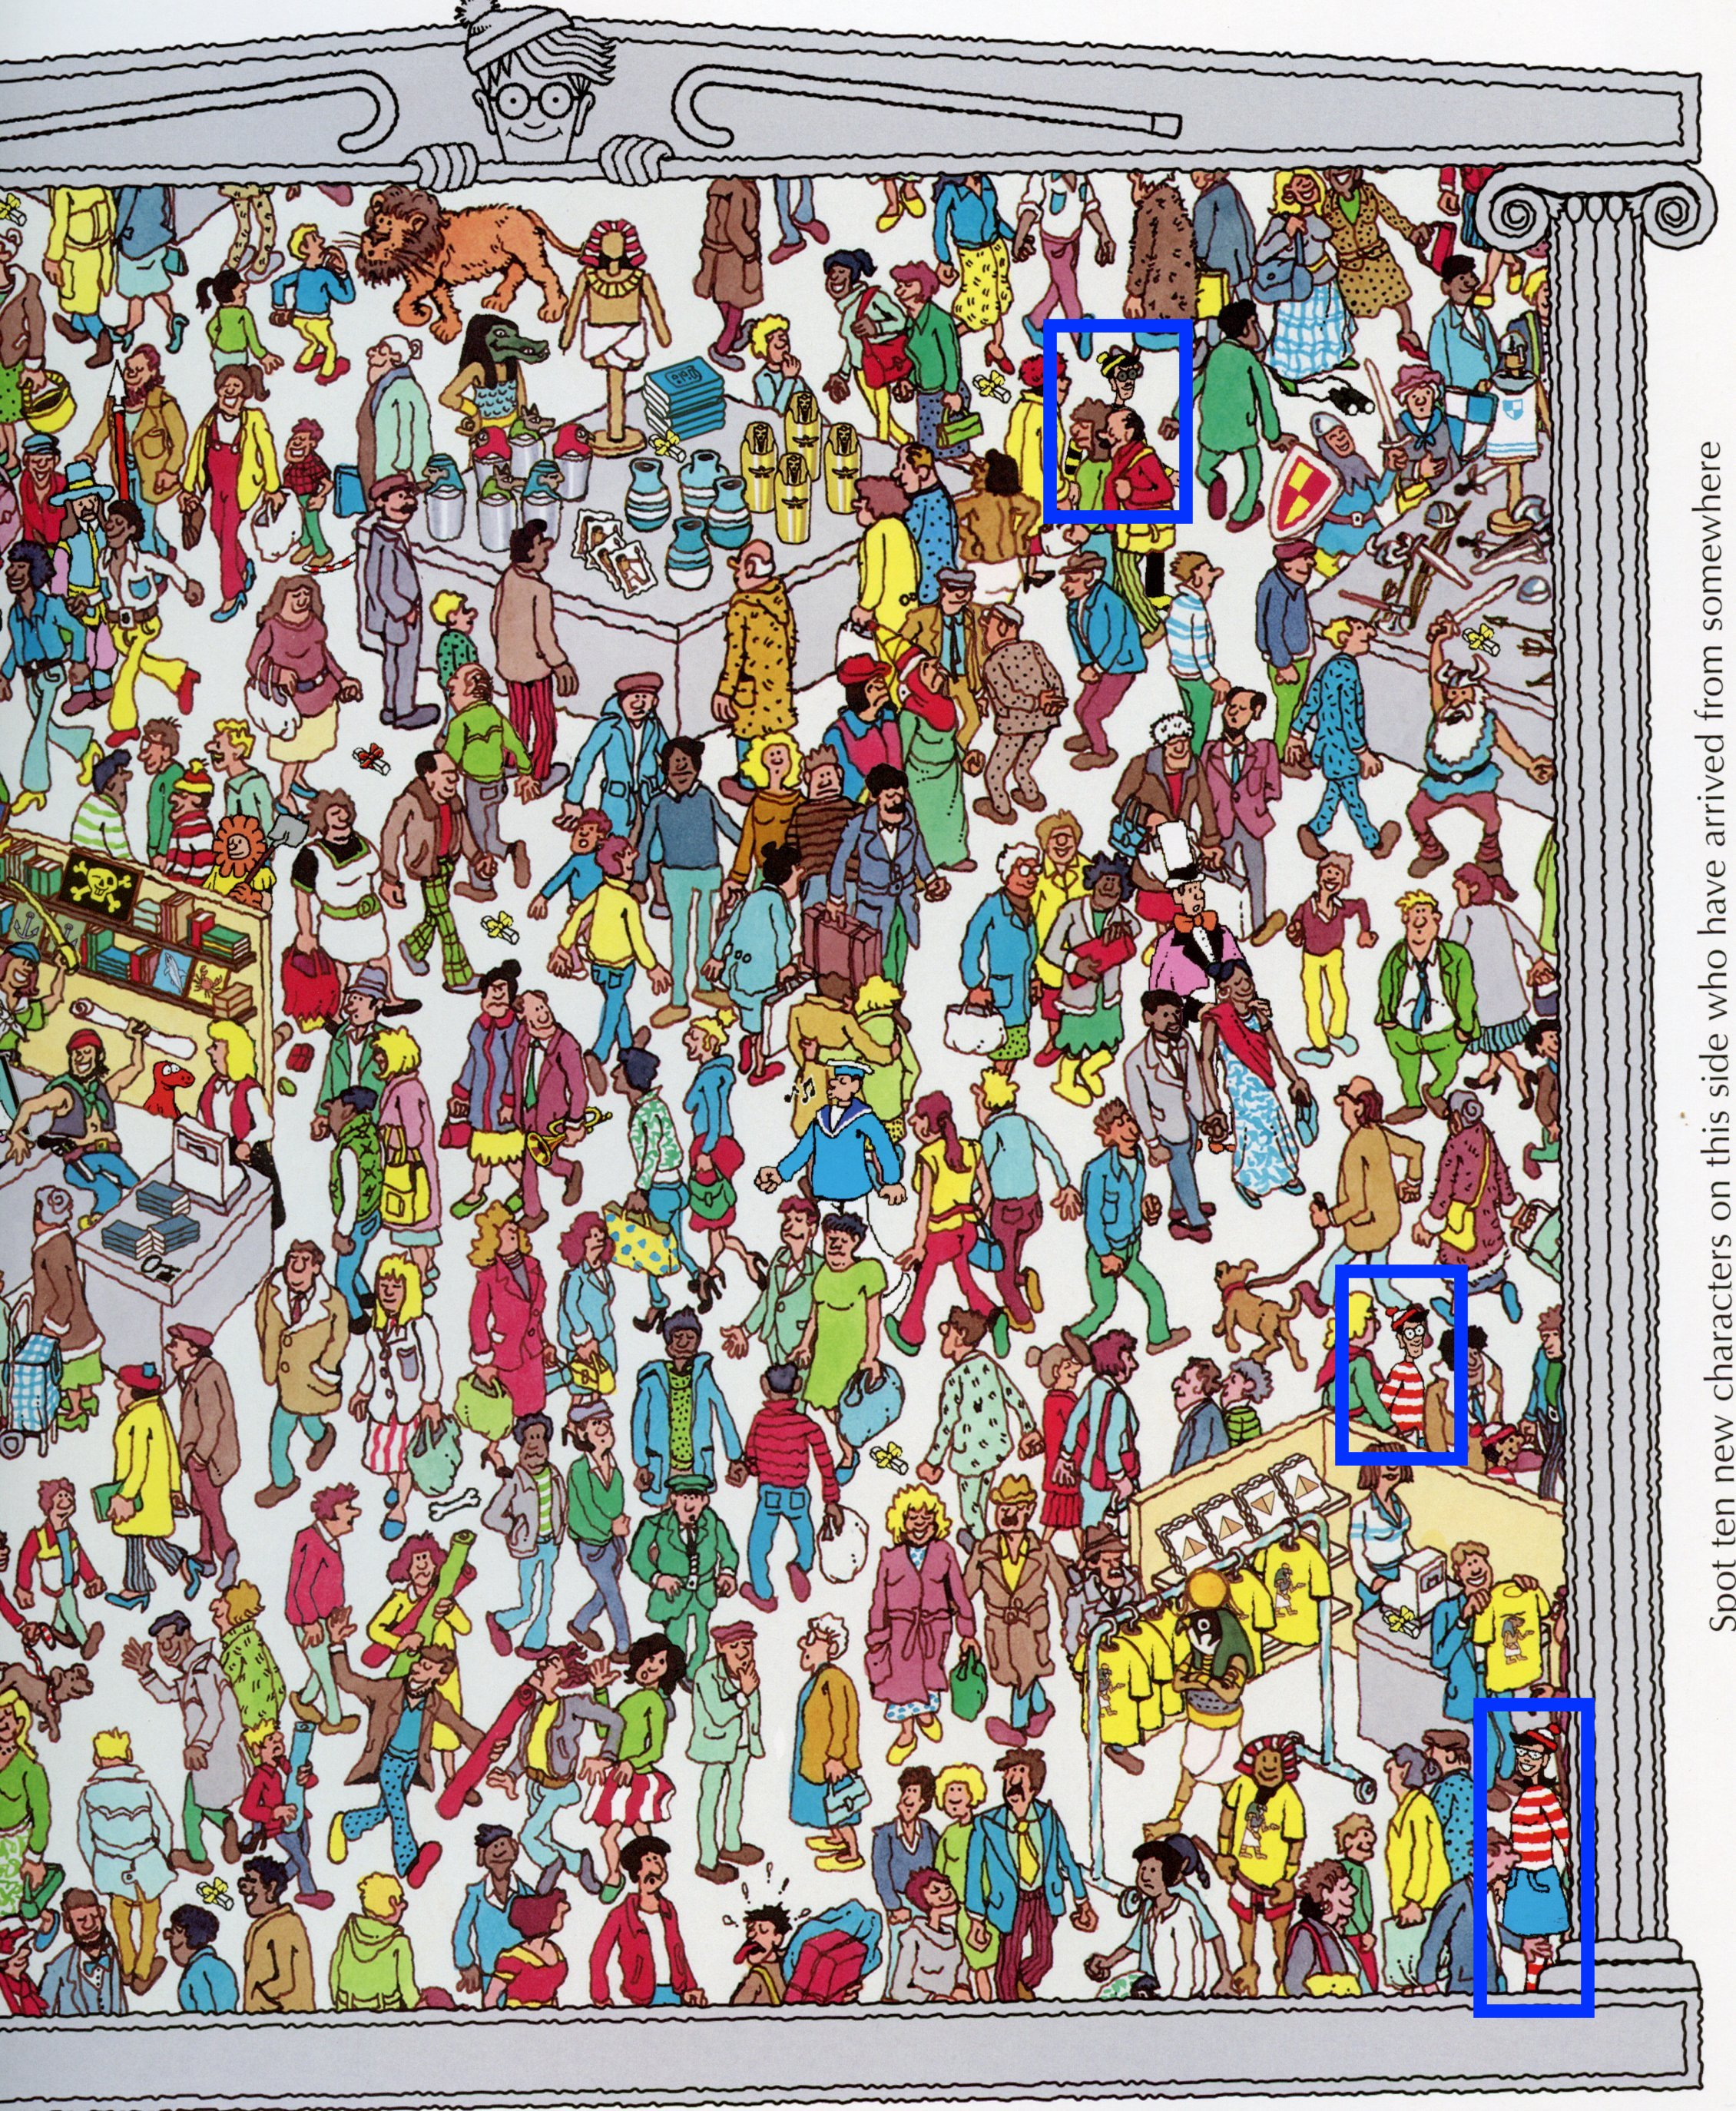odlaw: (1024, 316, 1224, 551)
waldo: (1341, 1259, 1464, 1459)
